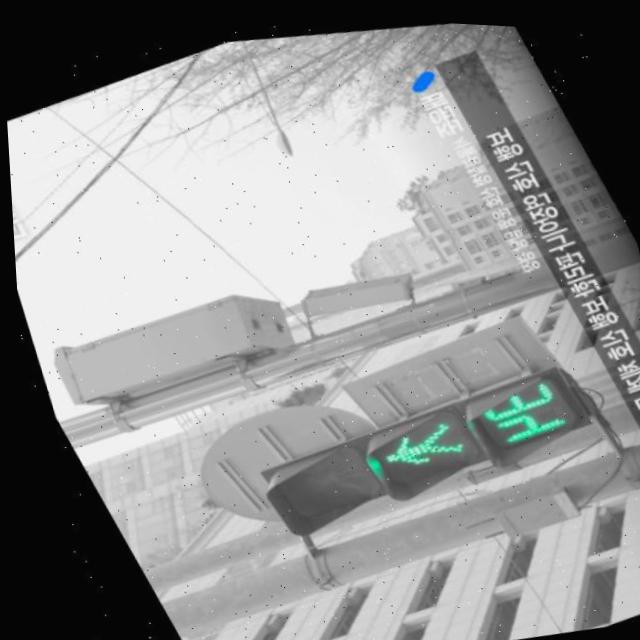green_light: (337, 335, 596, 508)
